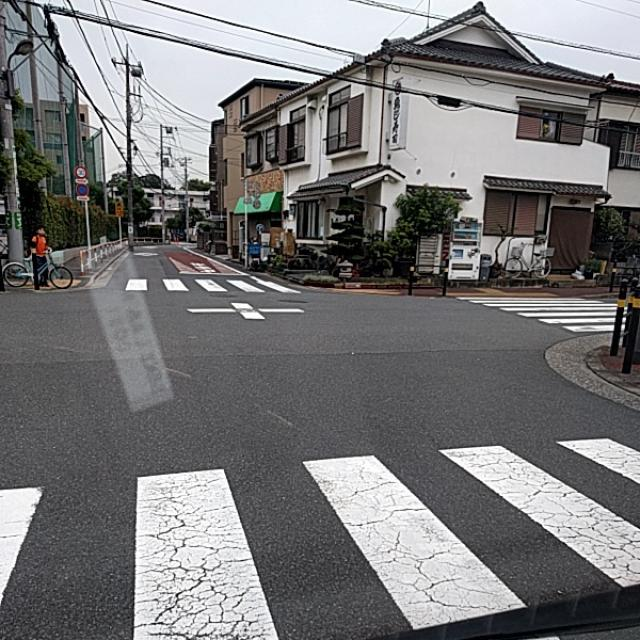pothole: (150, 472, 228, 600)
